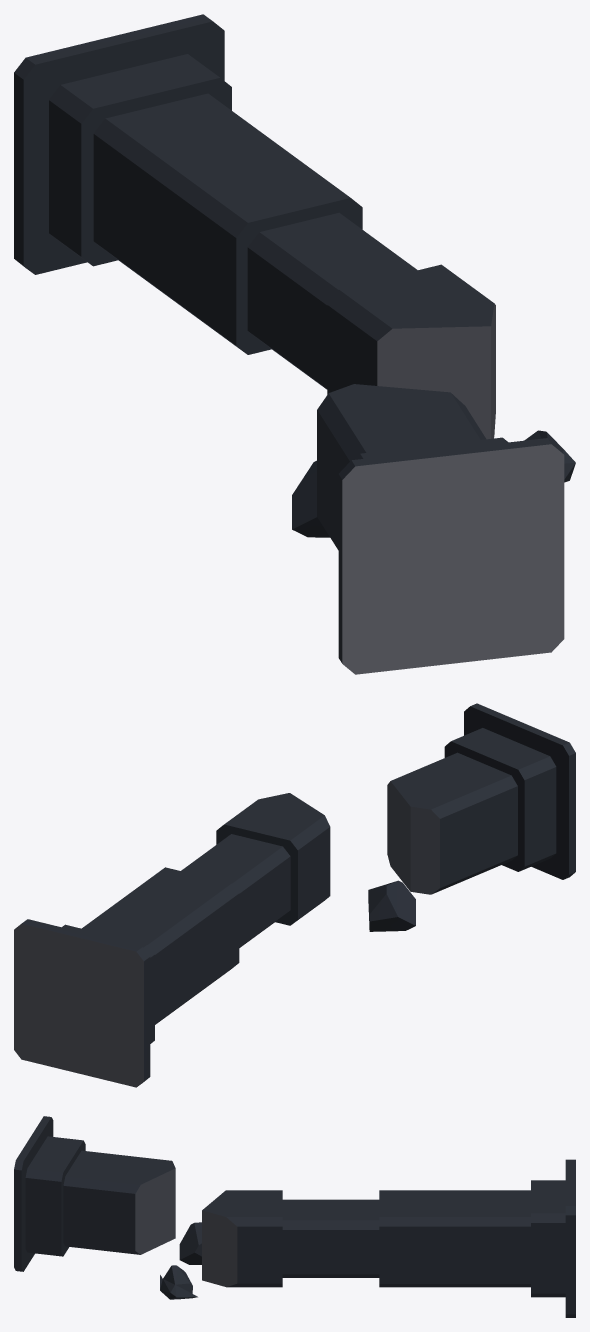
Rendered from pillier ecrasé.fbx.
3 renders of one model, top to bottom at view 1: azimuth 30°, elevation 25°; view 2: azimuth 150°, elevation 25°; view 3: azimuth 270°, elevation 25°, orthographic. The views are drawn at different scales.
Visible parts, largest first — view 1: Pillier cassé; view 2: Pillier cassé; view 3: Pillier cassé.
Part boxes in pixels (x1=…): Pillier cassé: x1=14, y1=14, x2=575, y2=674; Pillier cassé: x1=14, y1=703, x2=575, y2=1087; Pillier cassé: x1=14, y1=1116, x2=575, y2=1317.
Bounding box in the file's own units: 316 × 171 × 780.
